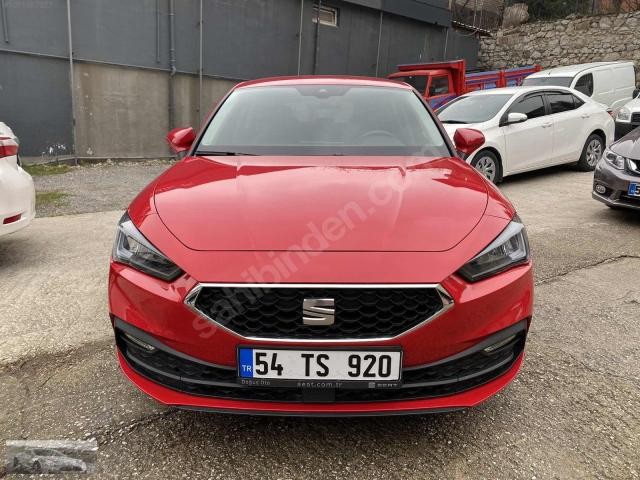plaka: (238, 347, 402, 387)
